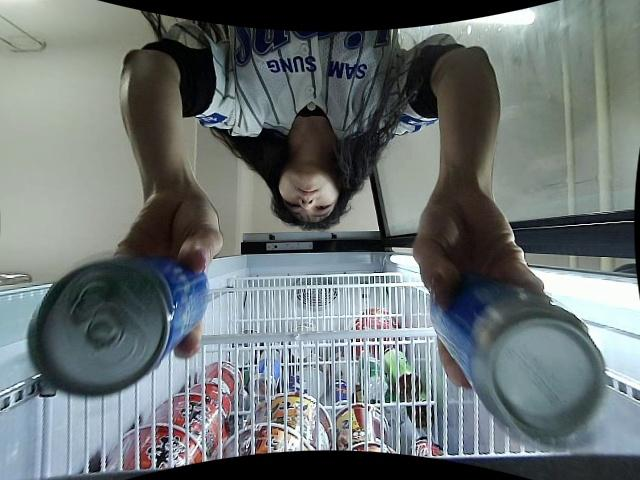00_hand: (413, 198, 545, 389), (115, 193, 224, 359)
15_letsbe: (430, 277, 608, 447), (28, 251, 207, 397)
